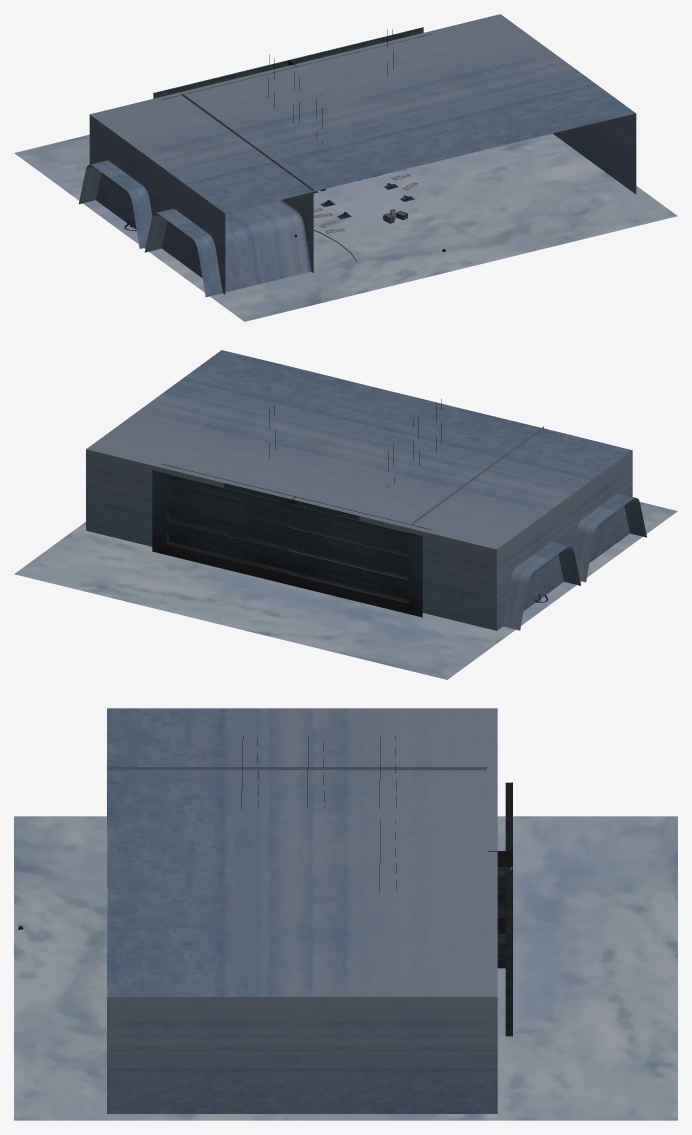
File: env_hoth_hangar_01_pre.glb
The picture shows the model from 3 angles, top to bottom: view 1: azimuth 30°, elevation 25°; view 2: azimuth 150°, elevation 25°; view 3: azimuth 270°, elevation 25°; orthographic projection. The views are drawn at different scales.
Parts seen in each view (by area): view 1: hoth_hangar_01_walls_mesh, ground_plane_lrg_mesh, hoth_ice_hangar_mesh (×2), hoth_echo_door_left_mesh, hoth_echo_door_right_mesh; view 2: hoth_hangar_01_walls_mesh, ground_plane_lrg_mesh, hoth_echo_door_left_mesh, hoth_echo_door_right_mesh, hoth_ice_hangar_mesh (×2); view 3: hoth_hangar_01_walls_mesh, ground_plane_lrg_mesh, hoth_echo_door_right_mesh, hoth_ice_hangar_mesh (×2), hoth_echo_door_left_mesh.
Boxes of the visible parts, x1,y1,x2,y2 form: hoth_hangar_01_walls_mesh: [89, 14, 636, 294]; ground_plane_lrg_mesh: [14, 133, 677, 321]; hoth_ice_hangar_mesh (×2): [79, 93, 313, 297]; hoth_echo_door_left_mesh: [153, 60, 297, 99]; hoth_echo_door_right_mesh: [289, 27, 431, 66]; hoth_hangar_01_walls_mesh: [86, 350, 632, 630]; ground_plane_lrg_mesh: [14, 502, 677, 679]; hoth_echo_door_left_mesh: [276, 496, 430, 617]; hoth_echo_door_right_mesh: [152, 464, 303, 584]; hoth_ice_hangar_mesh (×2): [412, 426, 646, 630]; hoth_hangar_01_walls_mesh: [107, 708, 497, 1113]; ground_plane_lrg_mesh: [14, 816, 677, 1120]; hoth_echo_door_right_mesh: [487, 851, 512, 1036]; hoth_ice_hangar_mesh (×2): [107, 767, 486, 887]; hoth_echo_door_left_mesh: [497, 782, 512, 960].
Bounding box in the file's own units: 61.85 × 19.49 × 56.47.
Materials: 15 (15 with a texture image).
